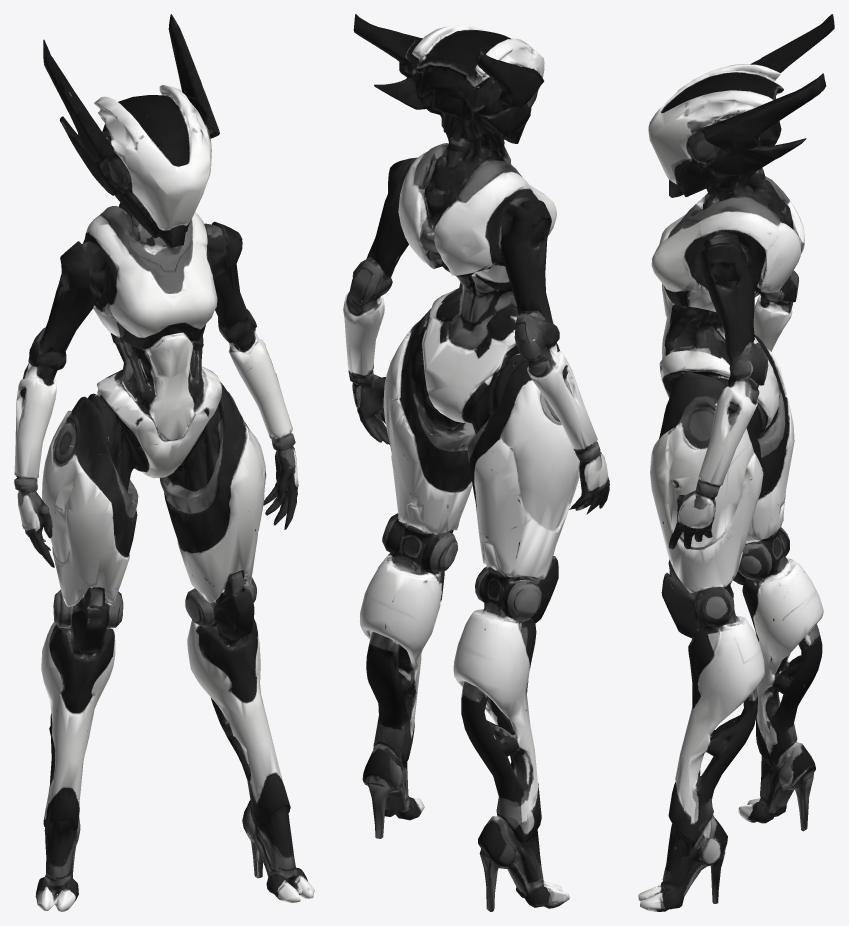
3 renders of one model, left to right at view 1: azimuth 30°, elevation 25°; view 2: azimuth 150°, elevation 25°; view 3: azimuth 270°, elevation 25°, orthographic. The views are drawn at different scales.
Size of the model in its own units: 0.6118 by 1.9 by 0.4143.
Materials: 1 (1 with a texture image).
